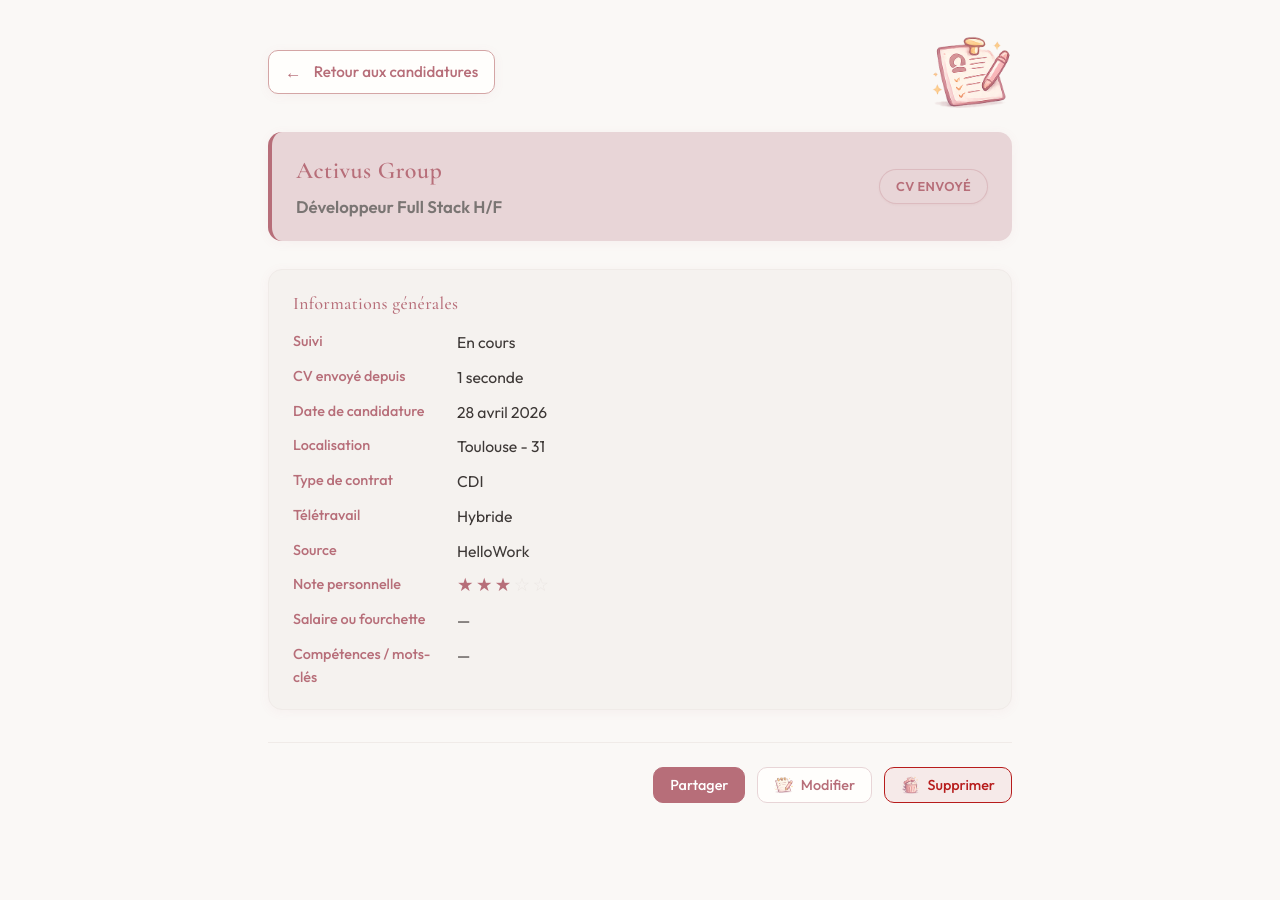
CandidatureDetail › updates kanban statut from the edit modal
Click the button "Modifier" at [815, 785], box top-left (757, 767), bottom-right (872, 803)
(page scrolled)
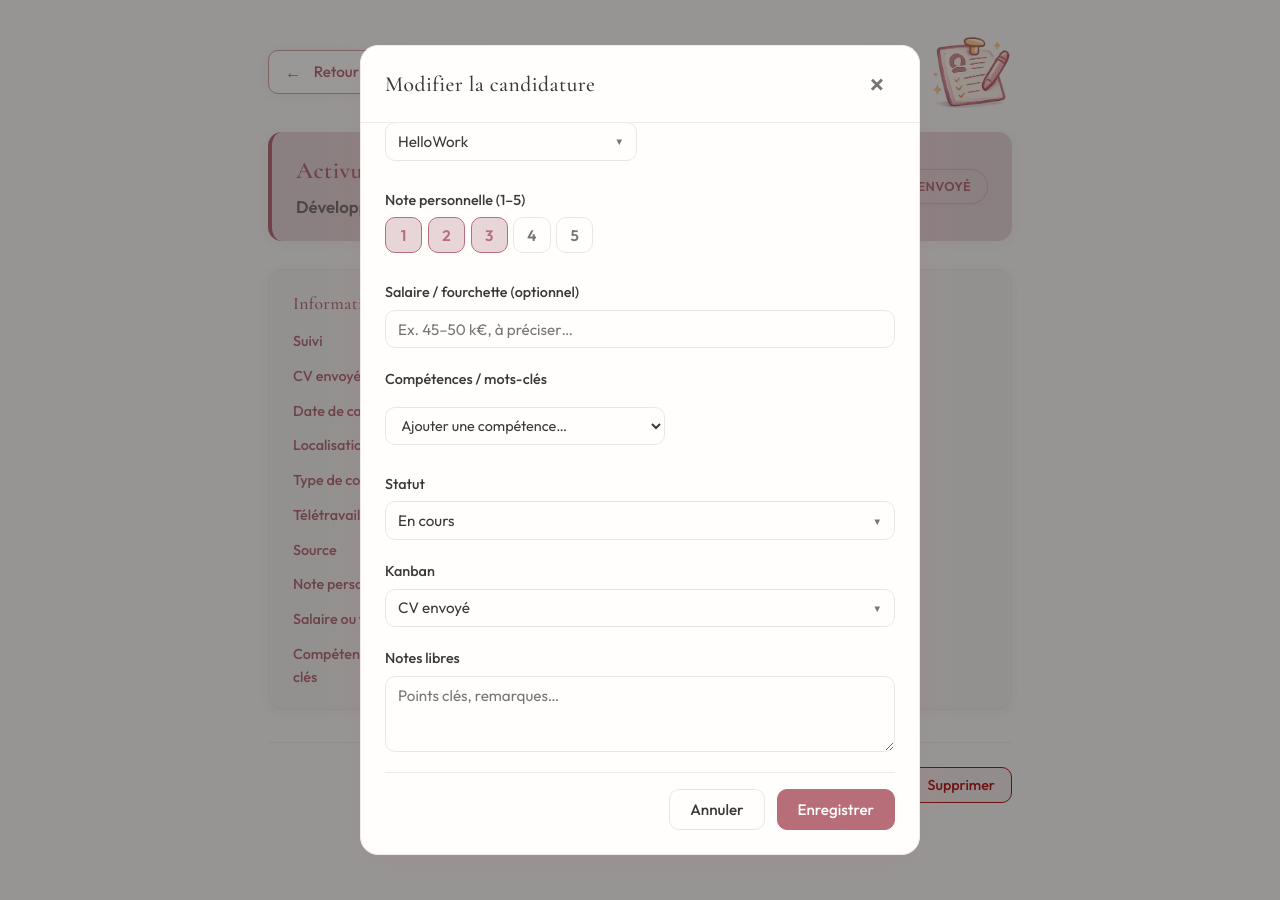
Expected: the heading "Modifier la candidature" is shown, top-left (385, 67), bottom-right (595, 101)
Click the button named "Kanban" at [434, 608], box top-left (385, 588), bottom-right (895, 627)
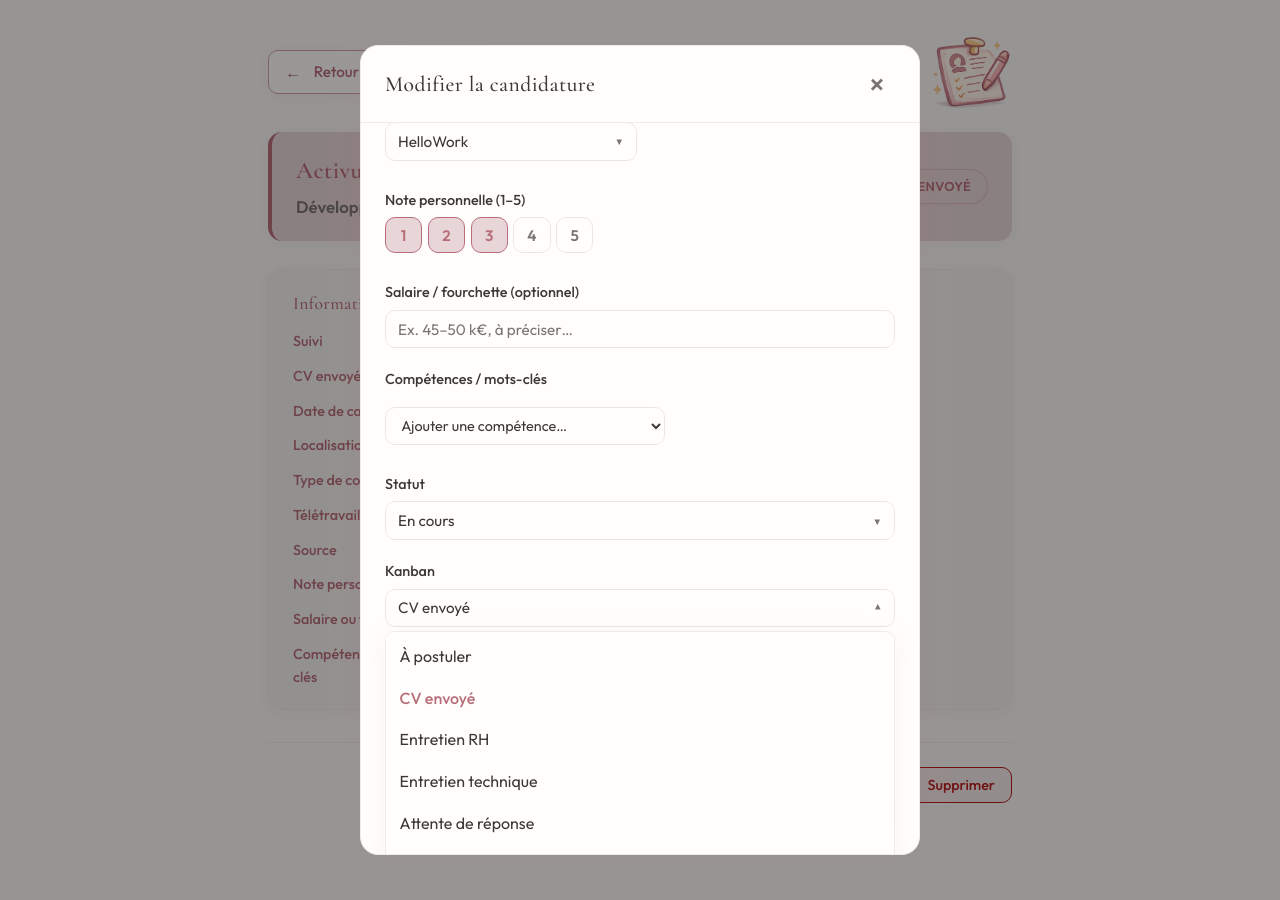
Click the option "Entretien RH" at [444, 739], box top-left (400, 729), bottom-right (489, 749)
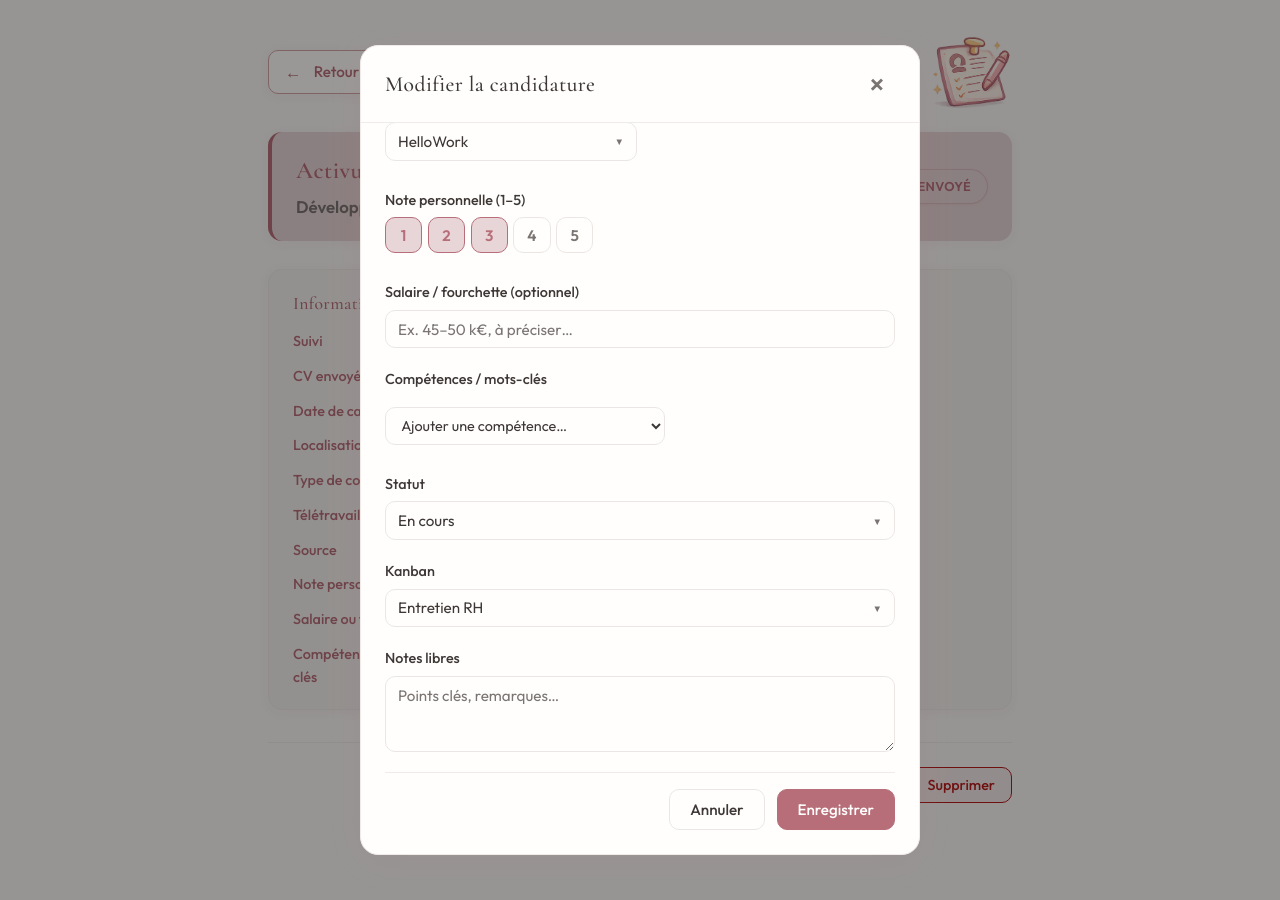
Click the button "Enregistrer" at [836, 810], box top-left (776, 789), bottom-right (895, 830)
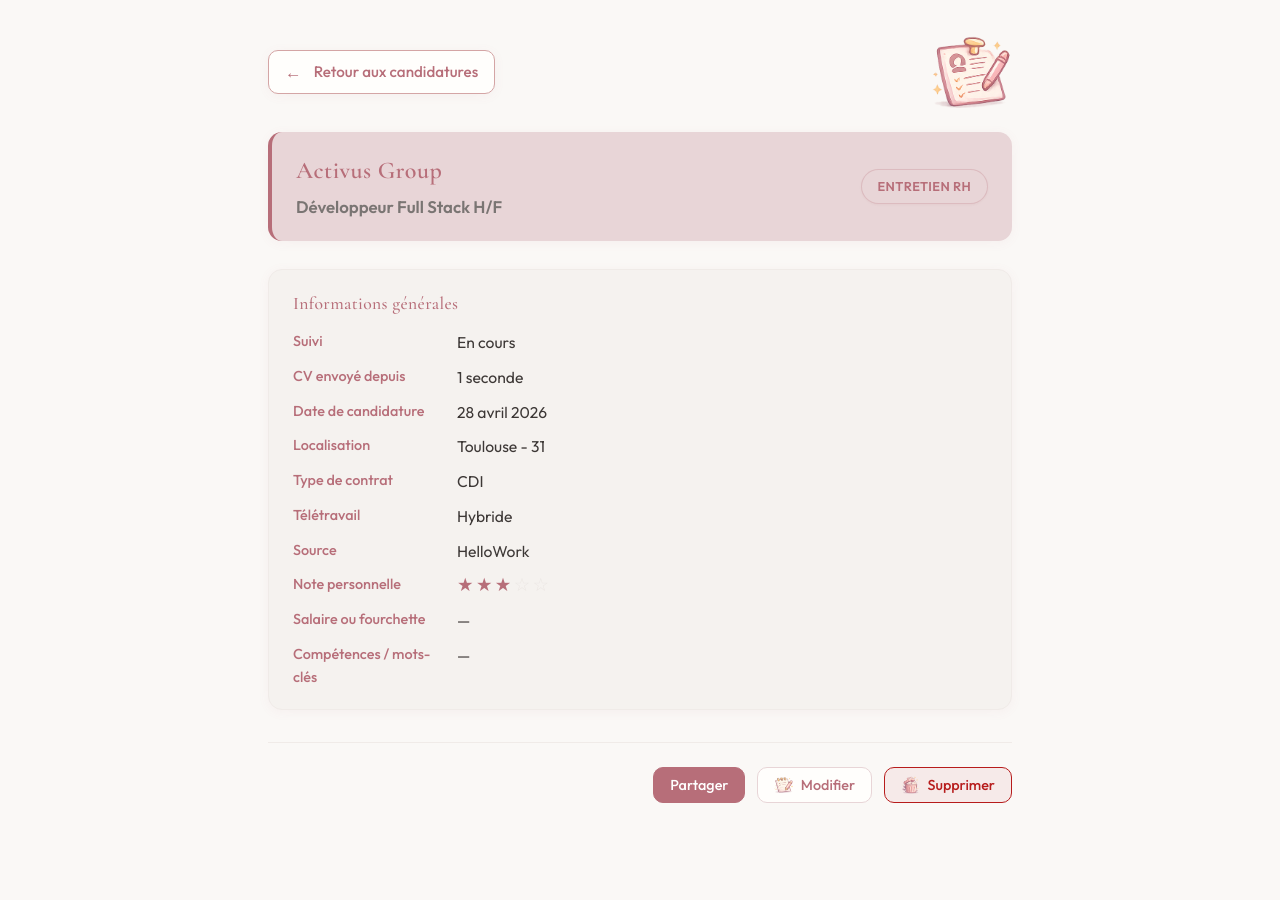
Expected: the text "Entretien RH" is shown, top-left (860, 169), bottom-right (988, 204)
Expected: the heading "Modifier la candidature" is gone
